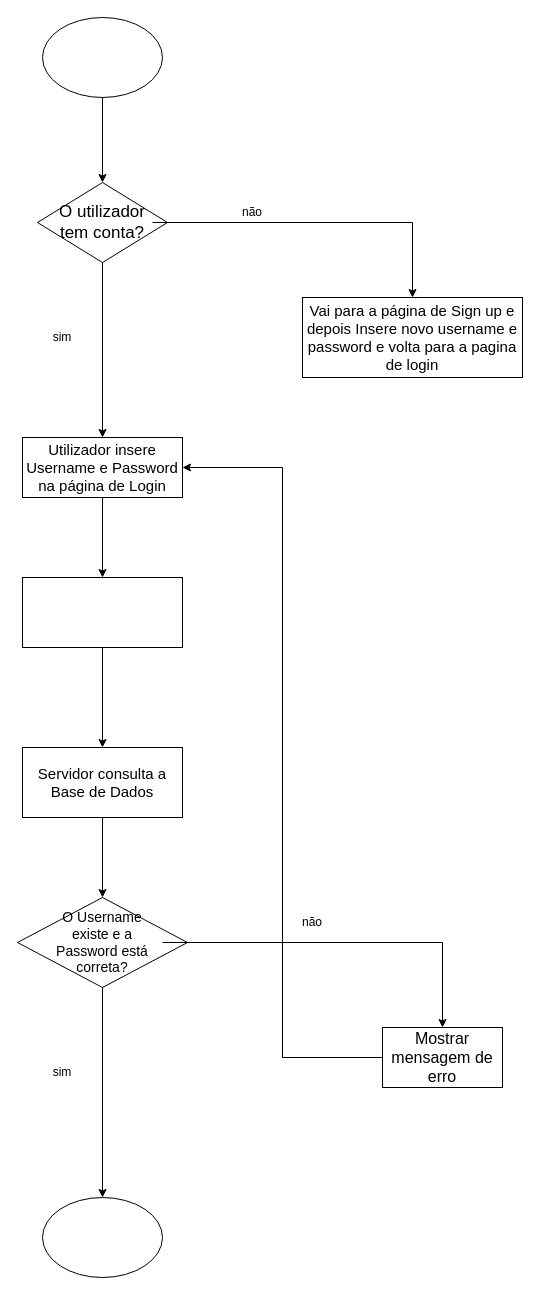
This 540x1295 diagram has some shape labels left out. The shapes that lost their labels are listed below. From the top down, each one's centre as x and y in pixels, then its label:
At point 102,57: "Inicio".
At point 102,612: "Cliente envia os dados inseridos para o Servidor".
At point 102,1237: "Fim".
